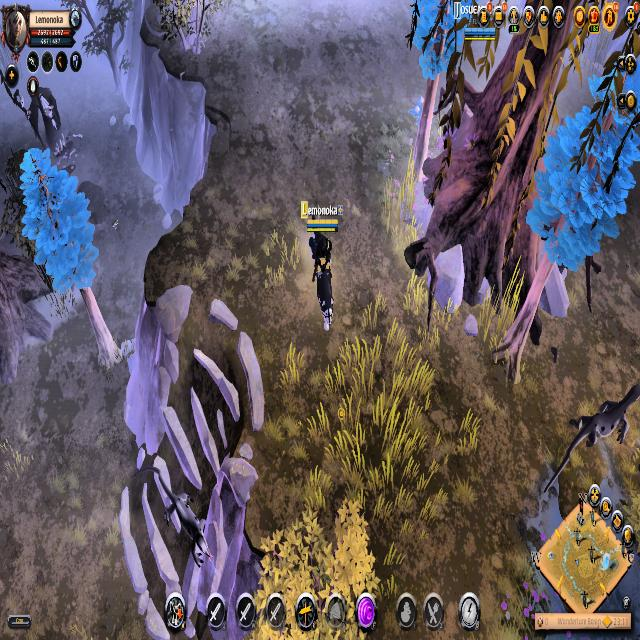wood tier 4: (17, 142, 99, 296)
